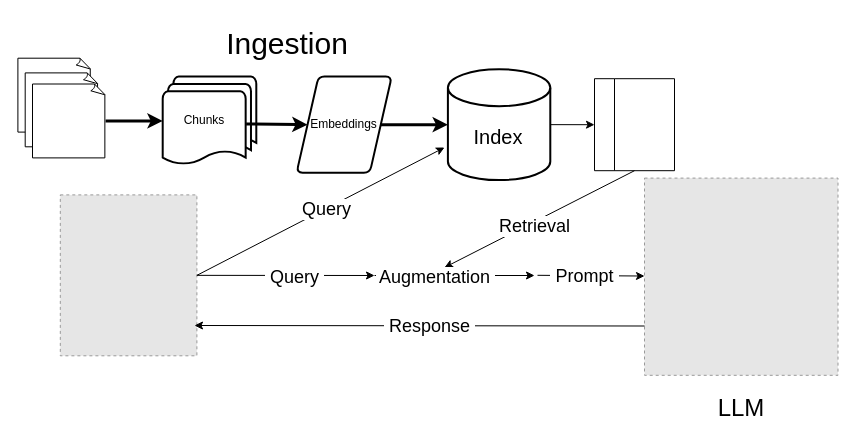
The diagram is 856 pixels wide and 447 high, and some of its shapes have lost their labels. Grey dashed boxes stand in for pictures. The shapes that lost their labels are listed below. From the top down, each one's centre as x and y in pixels, then its label:
pixel 69 120: Documents
pixel 634 124: TOP-K
